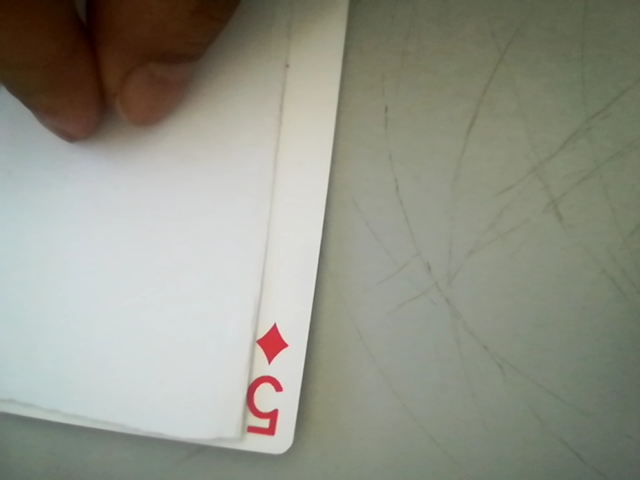fk 5: (229, 316, 299, 449)
